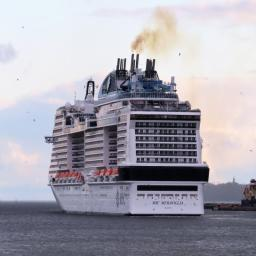cruises: (44, 53, 212, 223)
